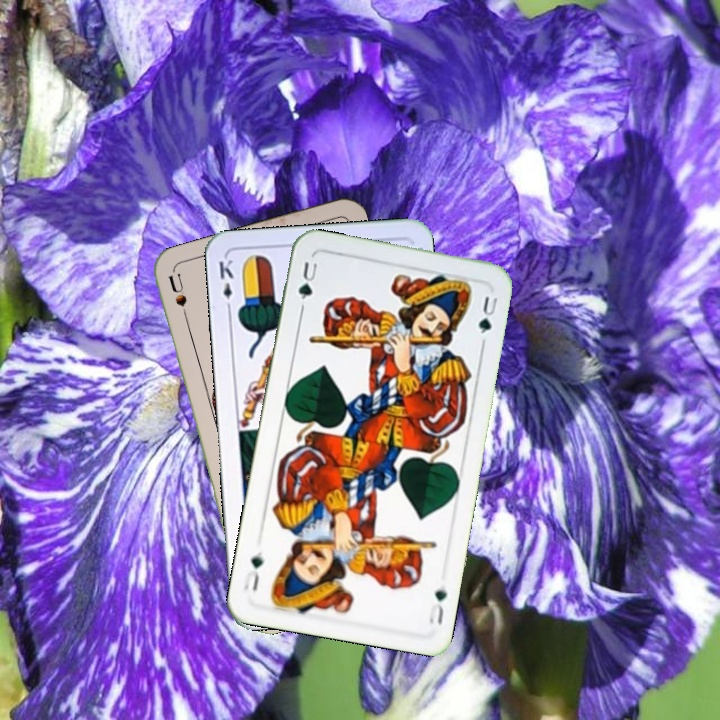EK: (215, 255, 236, 315)
GU: (294, 257, 320, 312), (425, 585, 450, 628)
SU: (164, 271, 193, 330)
